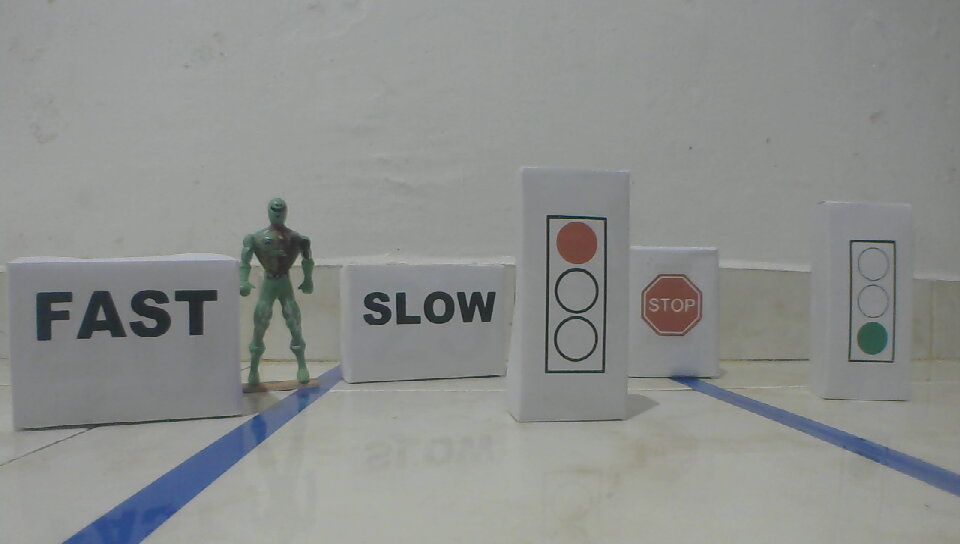Fast: (33, 287, 220, 343)
Green Traffic Light: (847, 238, 899, 367)
Person: (237, 196, 321, 393)
Red Traffic Light: (542, 213, 609, 378)
Slow: (359, 287, 501, 328)
Stop Sign: (638, 273, 705, 338)
